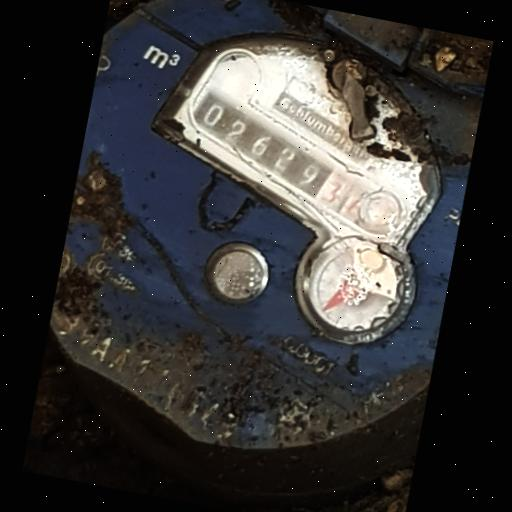0: (194, 93, 236, 138)
2: (214, 106, 257, 153), (263, 137, 306, 182)
3: (313, 169, 355, 214)
6: (239, 123, 283, 169), (335, 182, 375, 227)
9: (288, 152, 332, 200)
border_water_meter_number: (159, 65, 437, 258)
